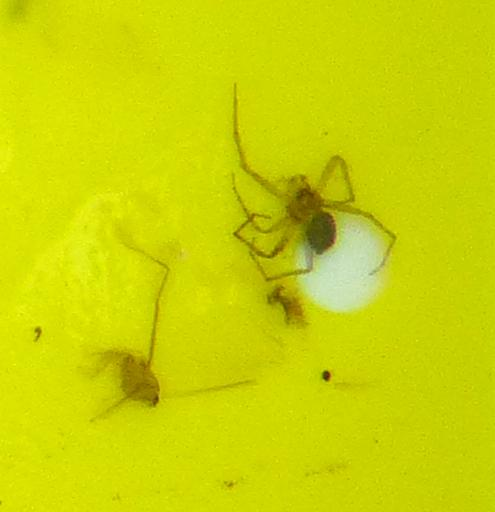Araneae: (228, 130, 399, 280)
Ephemeroptera: (71, 342, 162, 412)
